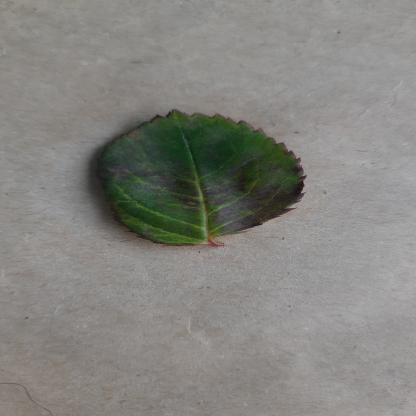downy-mildew: (87, 107, 313, 251)
